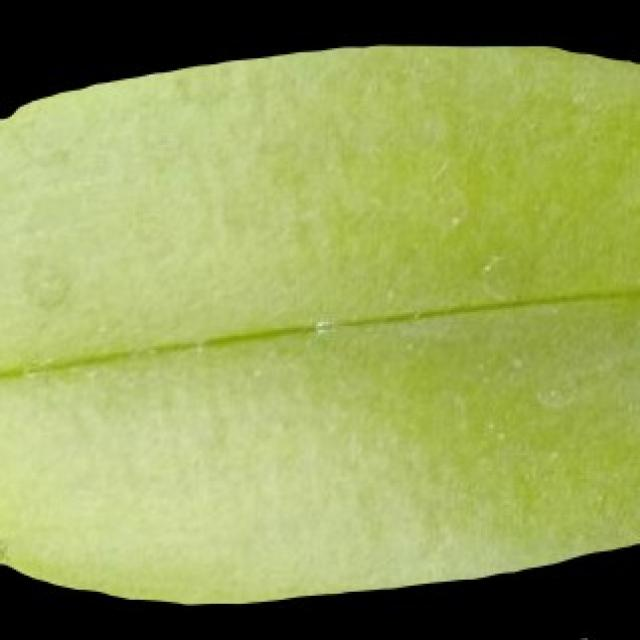mite: (531, 382, 570, 411), (306, 310, 338, 340), (312, 316, 334, 336), (0, 527, 8, 568)
spots: (0, 38, 638, 602)
